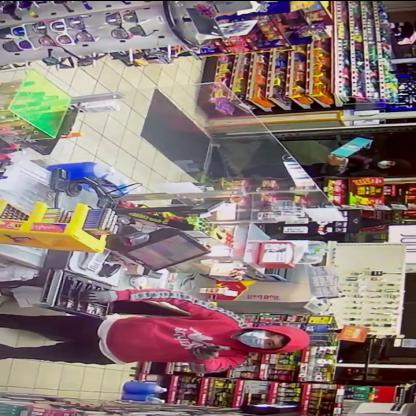Pistol: (198, 334, 235, 362)
